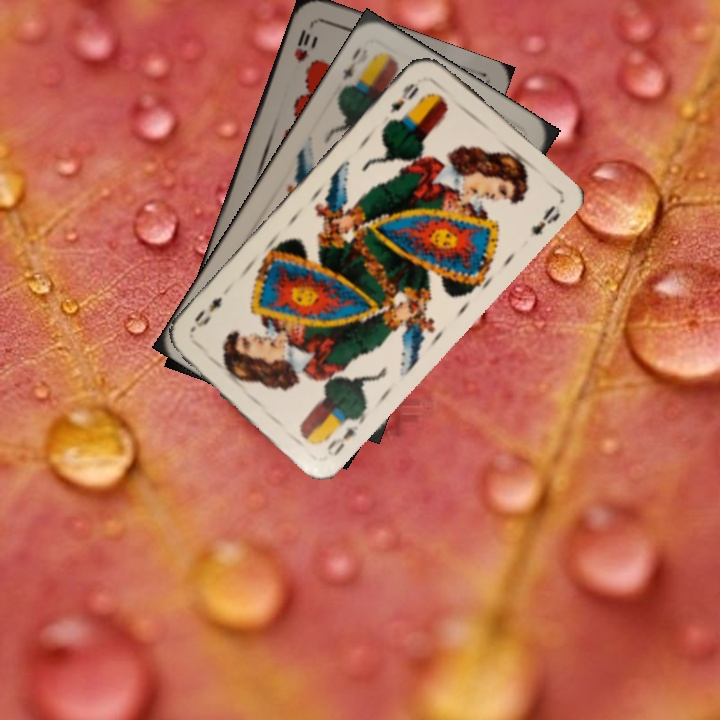EO: (320, 411, 367, 459), (385, 79, 422, 117), (337, 43, 364, 93)
H10: (289, 20, 316, 65)
